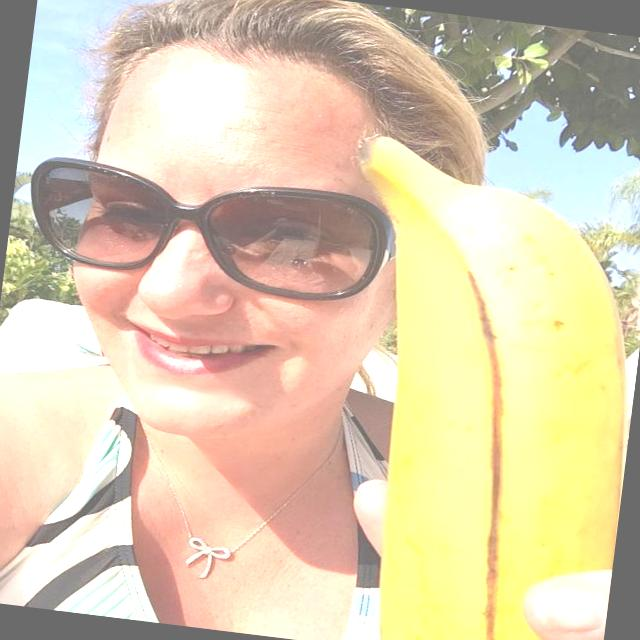Banana: (291, 127, 640, 640)
